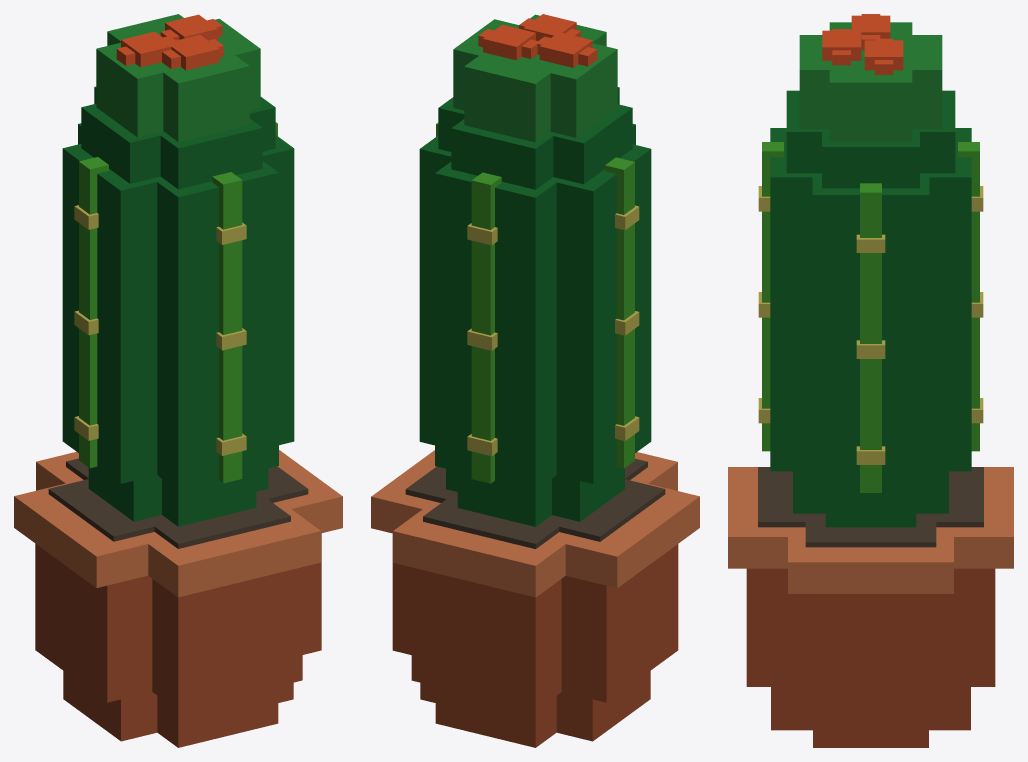
Rendered from CMU3DPottedPlant27.glb.
3 renders of one model, left to right at view 1: azimuth 30°, elevation 25°; view 2: azimuth 150°, elevation 25°; view 3: azimuth 270°, elevation 25°, orthographic.
Parts seen in each view (by area): view 1: barrel cactus (×3), pot body (×3), pot rim (×3), rounded cactus crown (×3), raised cactus rib (×2), barrel cactus upper shoulder (×3), tapered pot foot (×2), exposed soil (×3), barrel cactus lower shoulder (×2), leaf center (×3); view 2: barrel cactus (×3), pot body (×3), pot rim (×3), rounded cactus crown (×3), raised cactus rib (×2), barrel cactus upper shoulder (×3), tapered pot foot (×2), exposed soil (×3), barrel cactus lower shoulder (×2), leaf center (×3); view 3: barrel cactus (×2), pot body (×2), pot rim (×2), rounded cactus crown (×2), raised cactus rib (×3), barrel cactus upper shoulder (×2), exposed soil (×2), tapered pot foot (×2), barrel cactus lower shoulder (×2), leaf center (×3), small cactus spine (×3).
Part boxes in pixels (x1,y1,x2,y2): barrel cactus (×3): (62,123,294,490); pot body (×3): (35,533,321,710); pot rim (×3): (14,450,342,597); rounded cactus crown (×3): (96,14,260,141); raised cactus rib (×2): (79,157,242,483); barrel cactus upper shoulder (×3): (81,86,275,189); tapered pot foot (×2): (63,671,278,747); exposed soil (×3): (48,458,308,548); barrel cactus lower shoulder (×2): (88,466,256,526); leaf center (×3): (121,14,219,70); barrel cactus (×3): (419,124,651,490); pot body (×3): (392,534,678,710); pot rim (×3): (371,450,699,597); rounded cactus crown (×3): (453,14,617,142); raised cactus rib (×2): (471,157,634,483); barrel cactus upper shoulder (×3): (438,87,632,189); tapered pot foot (×2): (435,671,650,747); exposed soil (×3): (405,458,665,549); barrel cactus lower shoulder (×2): (457,467,624,526); leaf center (×3): (483,14,592,67); barrel cactus (×2): (770,128,971,489); pot body (×2): (746,568,995,708); pot rim (×2): (728,467,1013,593); rounded cactus crown (×2): (799,35,942,141); raised cactus rib (×3): (762,142,979,492); barrel cactus upper shoulder (×2): (786,90,955,188); exposed soil (×2): (758,467,983,547); tapered pot foot (×2): (771,687,970,747); barrel cactus lower shoulder (×2): (793,471,948,527); leaf center (×3): (822,15,903,70); small cactus spine (×3): (856,234,885,464).
Size of the model in its own units: 0.44 by 1.13 by 0.44.
